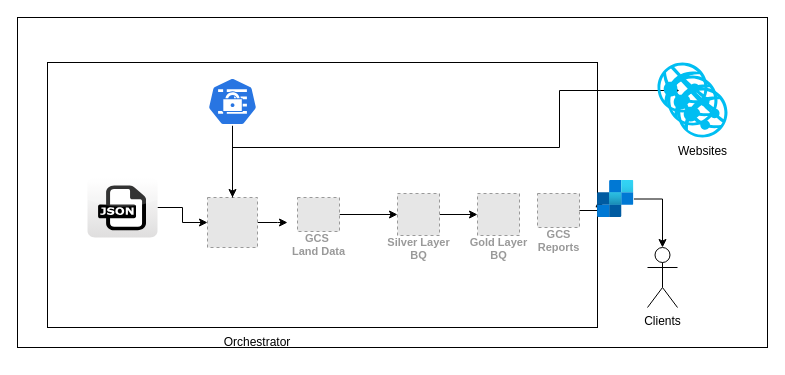
Some shapes in this 785 by 375 pixel diagram are drawn without their labels. Grey dashed boxes stand in for pictures. Here are the shapes that lost their labels. From the top down, the centre of each, then its label:
At (232,101): "Secrets".
At (122,207): "Config".
At (615,198): "Email w/ Send Grid".
